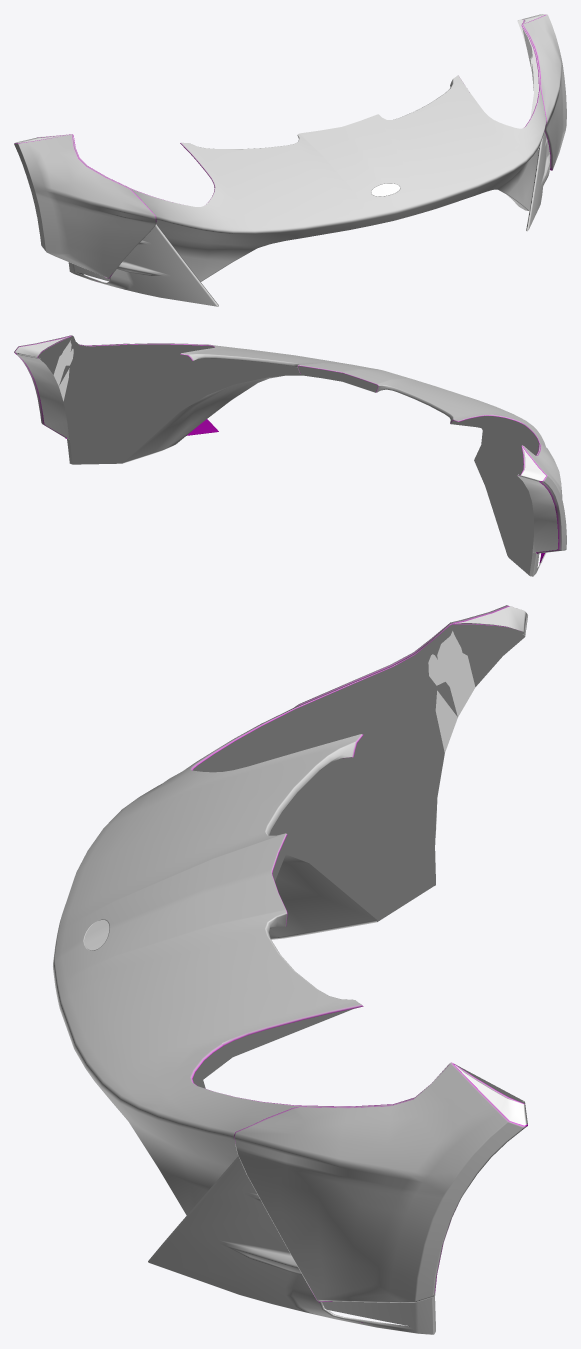
Rendered from Car_Ford_GT_2017_BumperF_SetB_AltA.fbx.
The picture shows the model from 3 angles, top to bottom: view 1: azimuth 30°, elevation 25°; view 2: azimuth 150°, elevation 25°; view 3: azimuth 270°, elevation 25°; orthographic projection. The views are drawn at different scales.
Visible parts, largest first — view 1: BumperF 6; view 2: BumperF 6; view 3: BumperF 6.
Boxes of the visible parts, bbox=[...] form: BumperF 6: bbox=[14, 14, 566, 306]; BumperF 6: bbox=[14, 335, 566, 576]; BumperF 6: bbox=[53, 605, 527, 1334].
Size of the model in its own units: 2.14 by 0.5165 by 0.8288.
